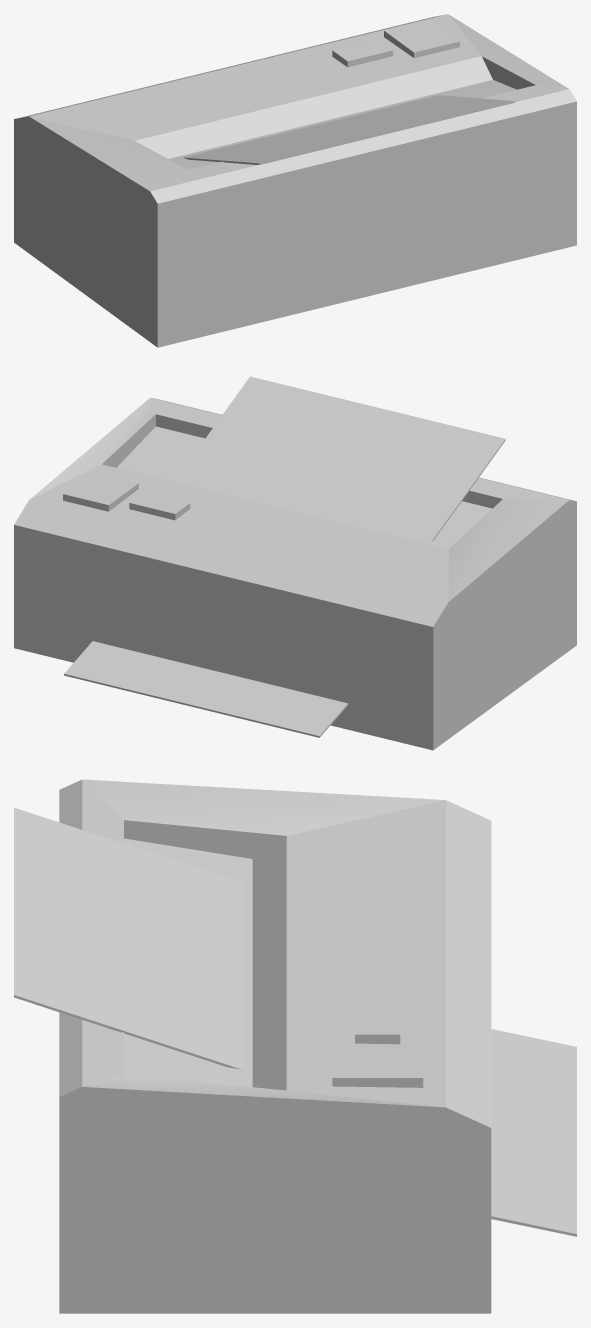
The model's file is Printer01_snaps001.fbx.
The picture shows the model from 3 angles, top to bottom: view 1: azimuth 30°, elevation 25°; view 2: azimuth 150°, elevation 25°; view 3: azimuth 270°, elevation 25°; orthographic projection. The views are drawn at different scales.
Visible parts, largest first — view 1: Printer01_snaps001; view 2: Printer01_snaps001; view 3: Printer01_snaps001.
Part boxes in pixels (left/top/right/bottom): Printer01_snaps001: left=14, top=14, right=576, bottom=347; Printer01_snaps001: left=14, top=376, right=576, bottom=750; Printer01_snaps001: left=14, top=779, right=576, bottom=1313.
Bounding box in the file's own units: 0.4999 × 0.1986 × 0.387.
Materials: 1 (1 with a texture image).
